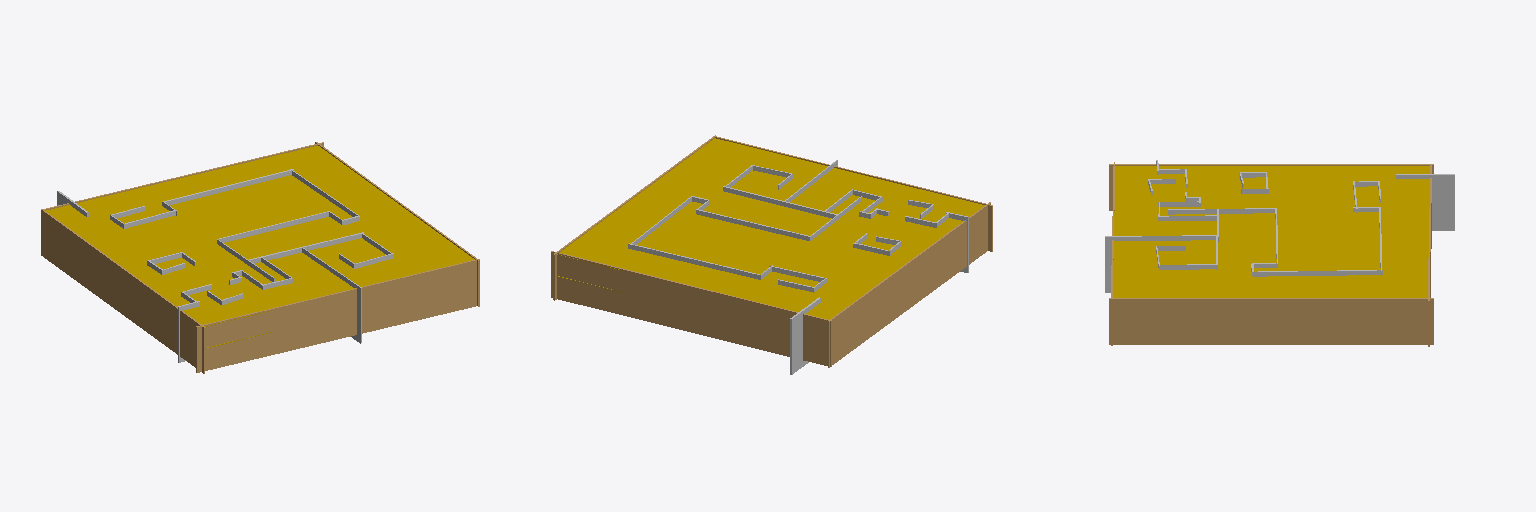
Rendered from lvl0.obj.
The picture shows the model from 3 angles: view 1: azimuth 30°, elevation 25°; view 2: azimuth 150°, elevation 25°; view 3: azimuth 270°, elevation 25°; orthographic projection.
Parts seen in each view (by area): view 1: Cube.036, Cube.003, Cube.002, Cube.010, Cube.004, Cube.017, Cube.014, Cube.016, Cube.001; view 2: Cube.036, Cube.004, Cube.002, Cube.005, Cube.003, Cube.010, Cube.014, Cube.001, Cube.016; view 3: Cube.036, Cube.001, Cube.005, Cube.017, Cube.002, Cube.011, Cube.015.
Boxes of the visible parts, <box> form: Cube.036: <box>46,146,474,326</box>; Cube.003: <box>196,259,479,372</box>; Cube.002: <box>41,209,204,373</box>; Cube.010: <box>162,169,293,205</box>; Cube.004: <box>41,142,323,255</box>; Cube.017: <box>302,247,361,343</box>; Cube.014: <box>218,211,329,242</box>; Cube.016: <box>248,232,363,263</box>; Cube.001: <box>315,142,479,306</box>; Cube.036: <box>557,138,984,319</box>; Cube.004: <box>551,251,831,366</box>; Cube.002: <box>828,202,990,367</box>; Cube.005: <box>790,297,820,374</box>; Cube.003: <box>715,136,992,251</box>; Cube.010: <box>628,243,761,279</box>; Cube.014: <box>696,209,809,240</box>; Cube.001: <box>553,135,715,300</box>; Cube.016: <box>723,186,837,218</box>; Cube.036: <box>1113,166,1429,297</box>; Cube.001: <box>1109,298,1433,344</box>; Cube.005: <box>1396,174,1454,230</box>; Cube.017: <box>1105,235,1218,292</box>; Cube.002: <box>1109,164,1433,210</box>; Cube.011: <box>1253,270,1382,276</box>; Cube.015: <box>1168,208,1274,214</box>.
Size of the model in its own units: 351 by 65.83 by 373.